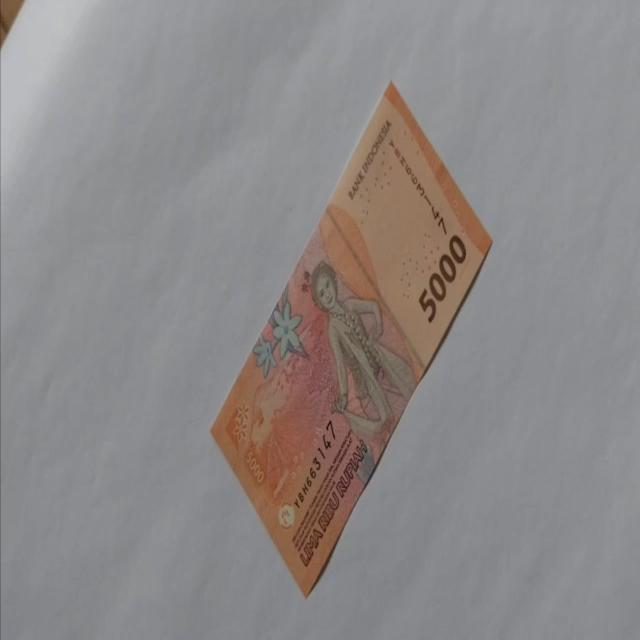lima ribu rupiah: (208, 78, 494, 598)
